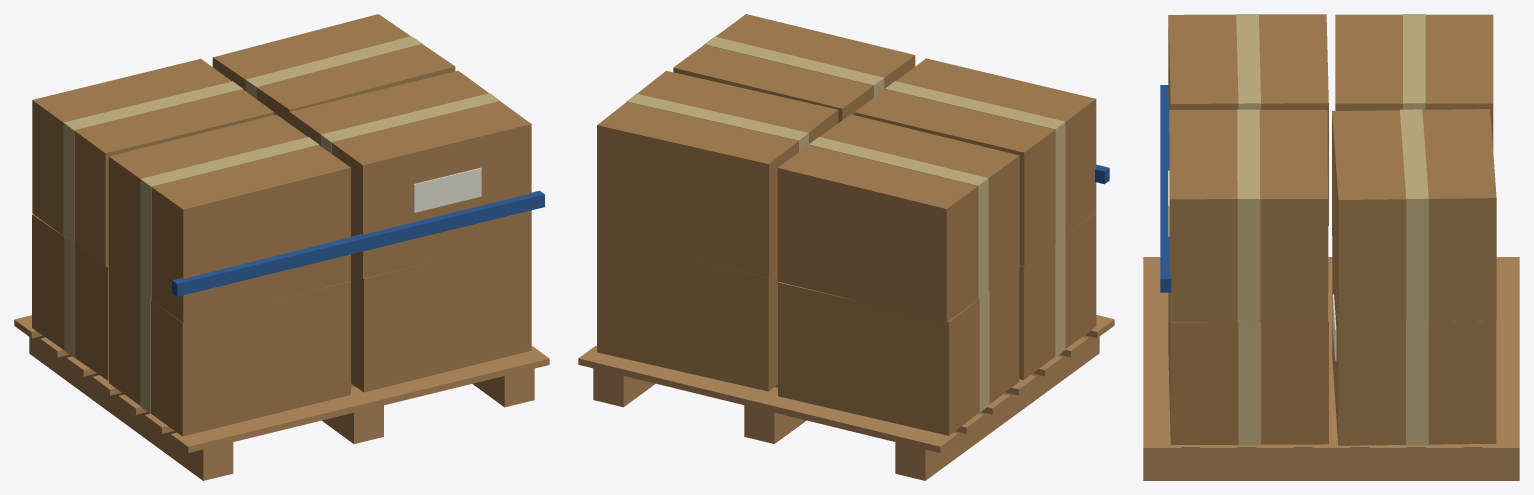
The model's file is box_pile_c.glb.
The picture shows the model from 3 angles, left to right: view 1: azimuth 30°, elevation 25°; view 2: azimuth 150°, elevation 25°; view 3: azimuth 270°, elevation 25°; orthographic projection. The views are drawn at different scales.
Parts seen in each view (by area): view 1: BoxPileC; view 2: BoxPileC; view 3: BoxPileC.
Part boxes in pixels (bbox=[...]): BoxPileC: bbox=[14, 14, 549, 480]; BoxPileC: bbox=[578, 14, 1114, 480]; BoxPileC: bbox=[1143, 14, 1519, 480].
Size of the model in its own units: 1.22 by 0.841 by 1.
